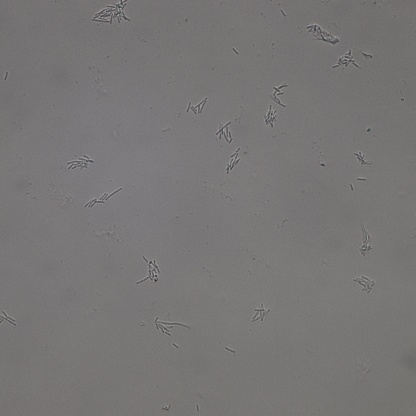R(colony): (91, 1, 132, 24), (84, 188, 122, 208), (136, 255, 161, 285), (307, 22, 340, 44), (154, 315, 190, 335), (332, 50, 361, 69), (66, 154, 94, 171), (215, 120, 234, 145), (358, 224, 372, 257), (225, 148, 242, 175), (352, 274, 375, 293), (252, 302, 271, 323), (186, 98, 207, 115), (272, 84, 288, 106), (264, 104, 278, 128), (354, 151, 371, 165)
